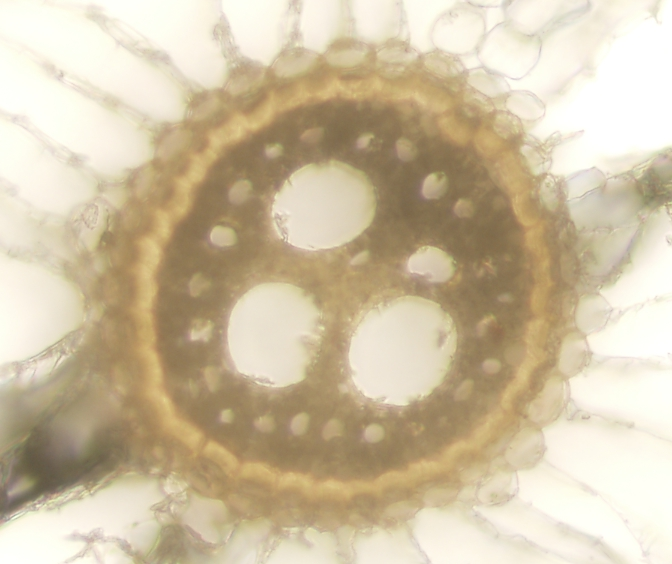lm: (345, 294, 458, 404), (227, 280, 324, 387), (272, 159, 377, 252)
